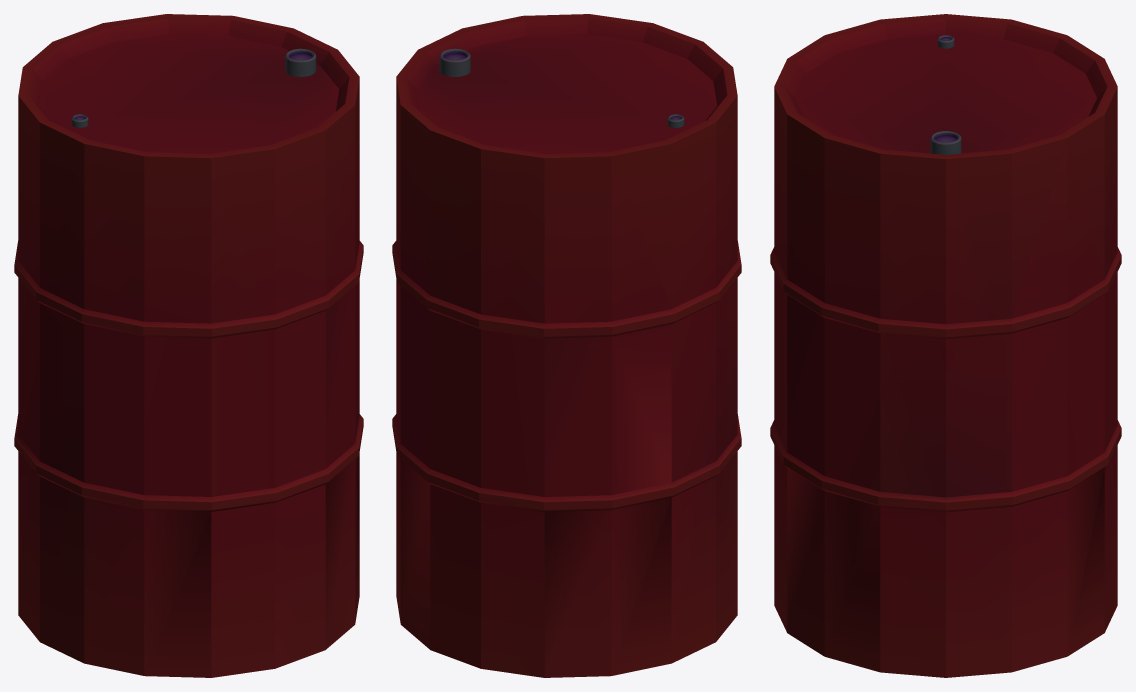
The picture shows the model from 3 angles, left to right: view 1: azimuth 30°, elevation 25°; view 2: azimuth 150°, elevation 25°; view 3: azimuth 270°, elevation 25°; orthographic projection.
Parts seen in each view (by area): view 1: drum_skin, large_bung; view 2: drum_skin, large_bung; view 3: drum_skin, large_bung.
Part boxes in pixels (left/top/right/bottom): drum_skin: left=14, top=14, right=363, bottom=677; large_bung: left=285, top=48, right=316, bottom=76; drum_skin: left=392, top=14, right=741, bottom=677; large_bung: left=439, top=48, right=470, bottom=76; drum_skin: left=770, top=14, right=1121, bottom=677; large_bung: left=930, top=131, right=961, bottom=154.
Bounding box in the file's own units: 0.5484 × 0.9 × 0.5484.
